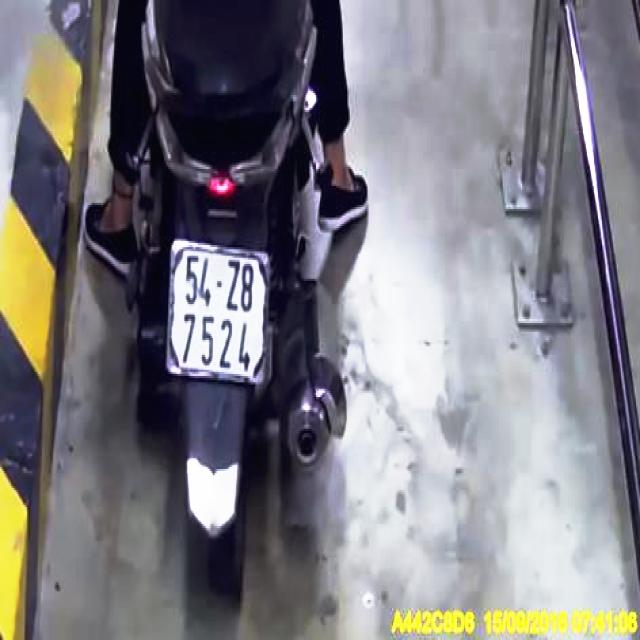license_plate: (171, 242, 270, 380)
